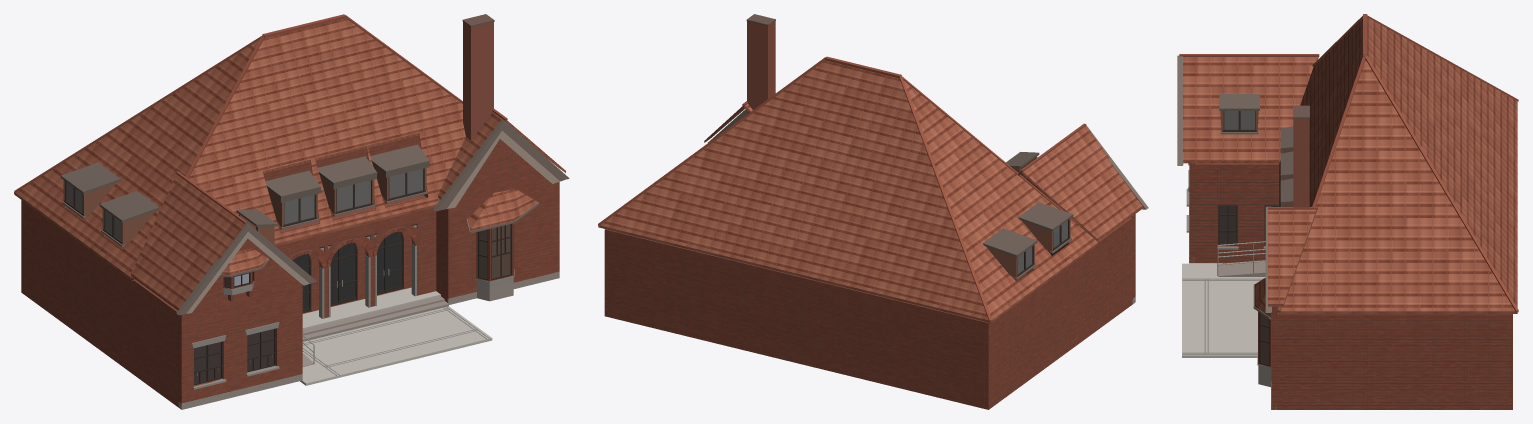
Rendered from hongkou-yimin-food-factory-reconstructed-villa-web.glb.
The picture shows the model from 3 angles, left to right: view 1: azimuth 30°, elevation 25°; view 2: azimuth 150°, elevation 25°; view 3: azimuth 270°, elevation 25°; orthographic projection. The views are drawn at different scales.
Parts seen in each view (by area): view 1: 益民食品一厂复建西班牙式小楼; view 2: 益民食品一厂复建西班牙式小楼; view 3: 益民食品一厂复建西班牙式小楼.
Part boxes in pixels (x1,y1,x2,y2): 益民食品一厂复建西班牙式小楼: (14,14,569,409); 益民食品一厂复建西班牙式小楼: (598,14,1148,409); 益民食品一厂复建西班牙式小楼: (1177,14,1518,409).
Bounding box in the file's own units: 19.84 × 11.9 × 13.36.
Materials: 33 (2 with a texture image).
